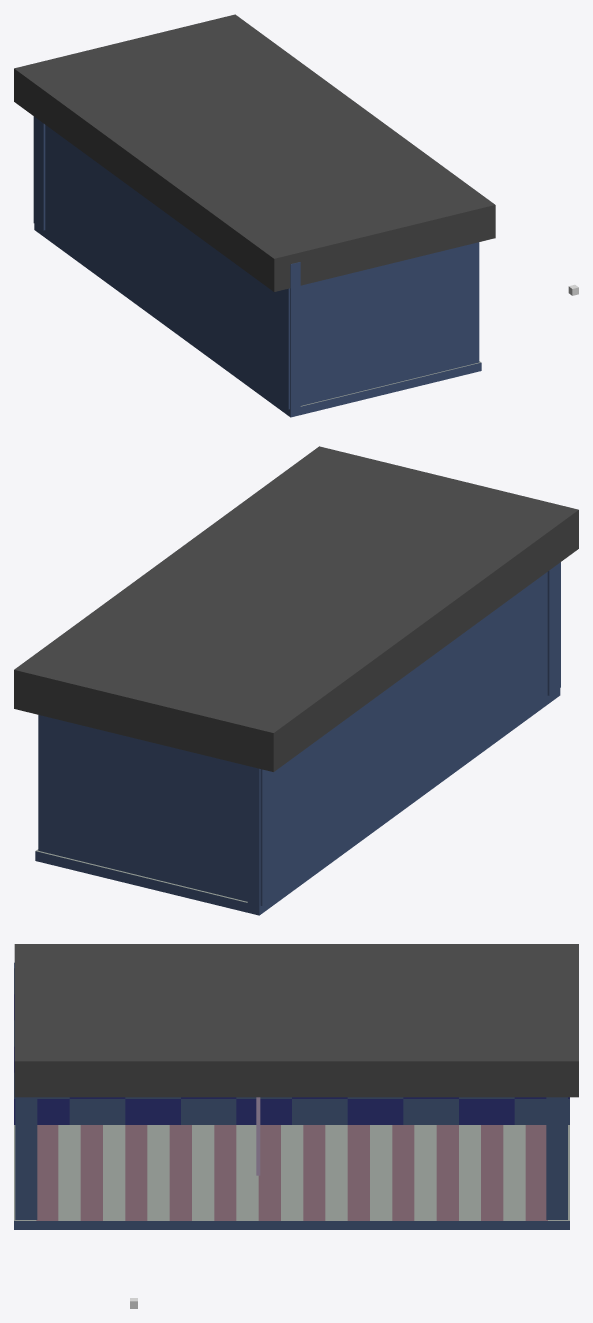
File: shopglb.glb
The picture shows the model from 3 angles, top to bottom: view 1: azimuth 30°, elevation 25°; view 2: azimuth 150°, elevation 25°; view 3: azimuth 270°, elevation 25°; orthographic projection. The views are drawn at different scales.
Parts seen in each view (by area): view 1: Cube.001, Cube, Cube.002, Cube.003; view 2: Cube.001, Cube, Cube.003, Cube.002; view 3: Cube.001, Cube.006, Cube, Cube.002, Cube.003.
Part boxes in pixels (x1,y1,x2,y2): Cube.001: (14,14,495,291); Cube: (34,125,481,417); Cube.002: (278,242,479,409); Cube.003: (33,116,45,230); Cube.001: (14,446,578,771); Cube: (35,572,560,915); Cube.003: (38,715,273,905); Cube.002: (547,562,560,695); Cube.001: (14,944,578,1097); Cube.006: (14,1125,569,1220); Cube: (14,962,569,1229); Cube.002: (15,1097,37,1219); Cube.003: (546,1097,567,1219).
Size of the model in its own units: 109 by 49.57 by 137.
